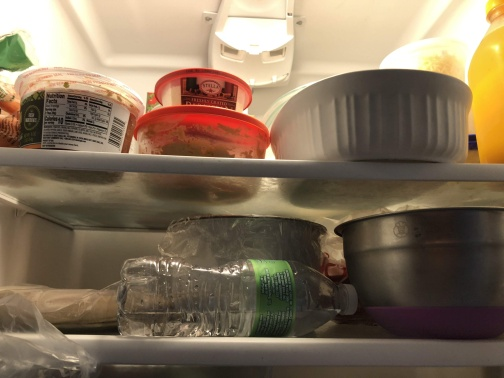bottle: (114, 252, 362, 342)
